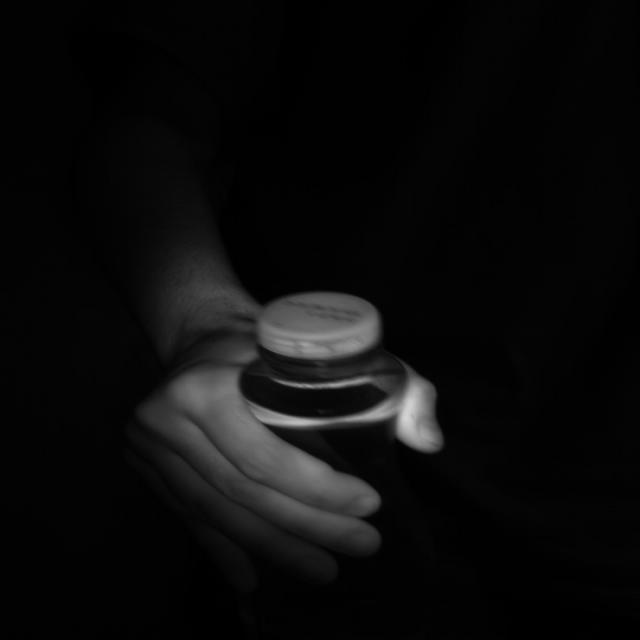Not Good: (259, 292, 384, 369)
